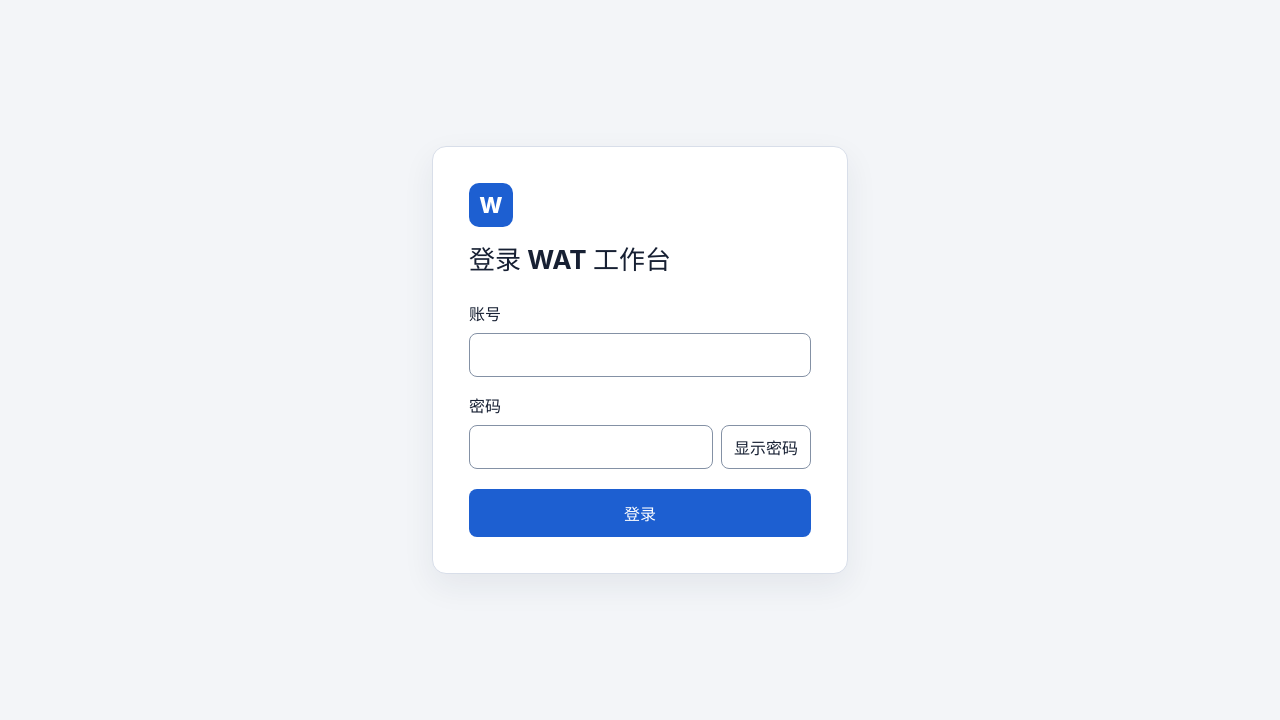
it: WAT pilot › shows G0 login, opens the workbench after sign-in and clears it on sign-out
Type "operator" into the field labelled "账号". click: (640, 355)
box: [469,333,811,377]
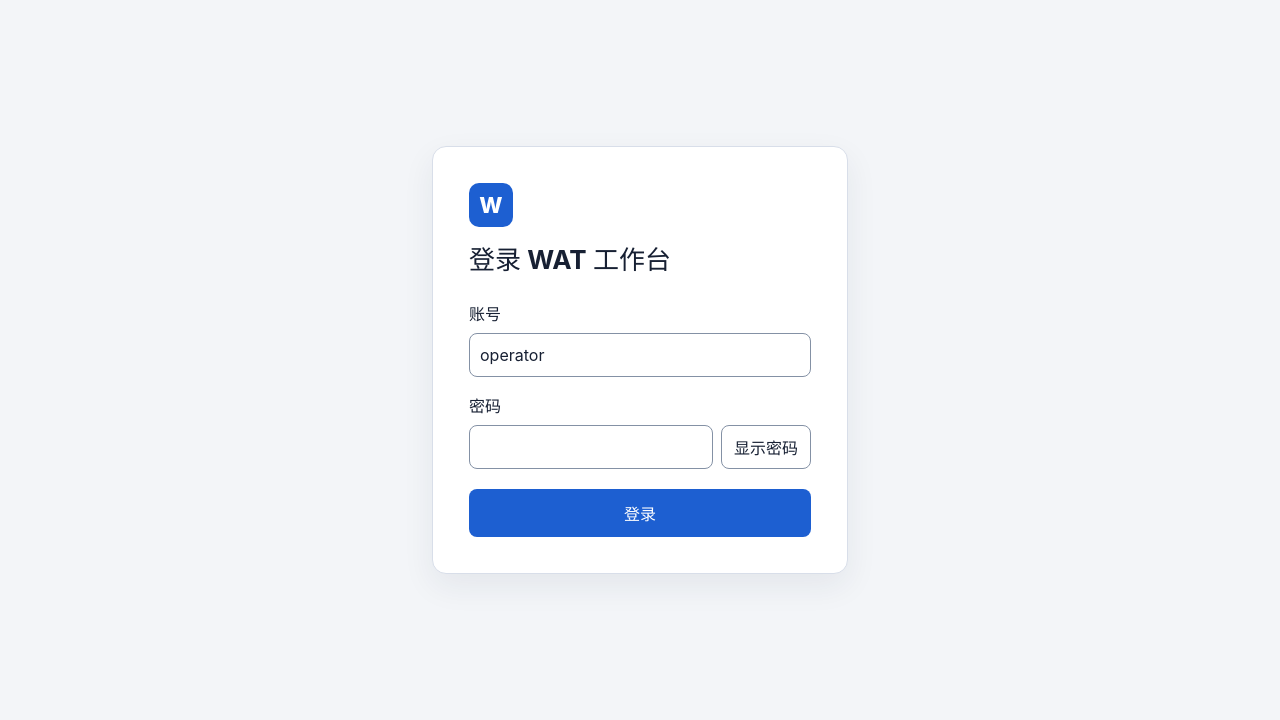
Type "wrong-test-password" into the password field labelled "密码". click: (591, 447)
box: [469,425,713,469]
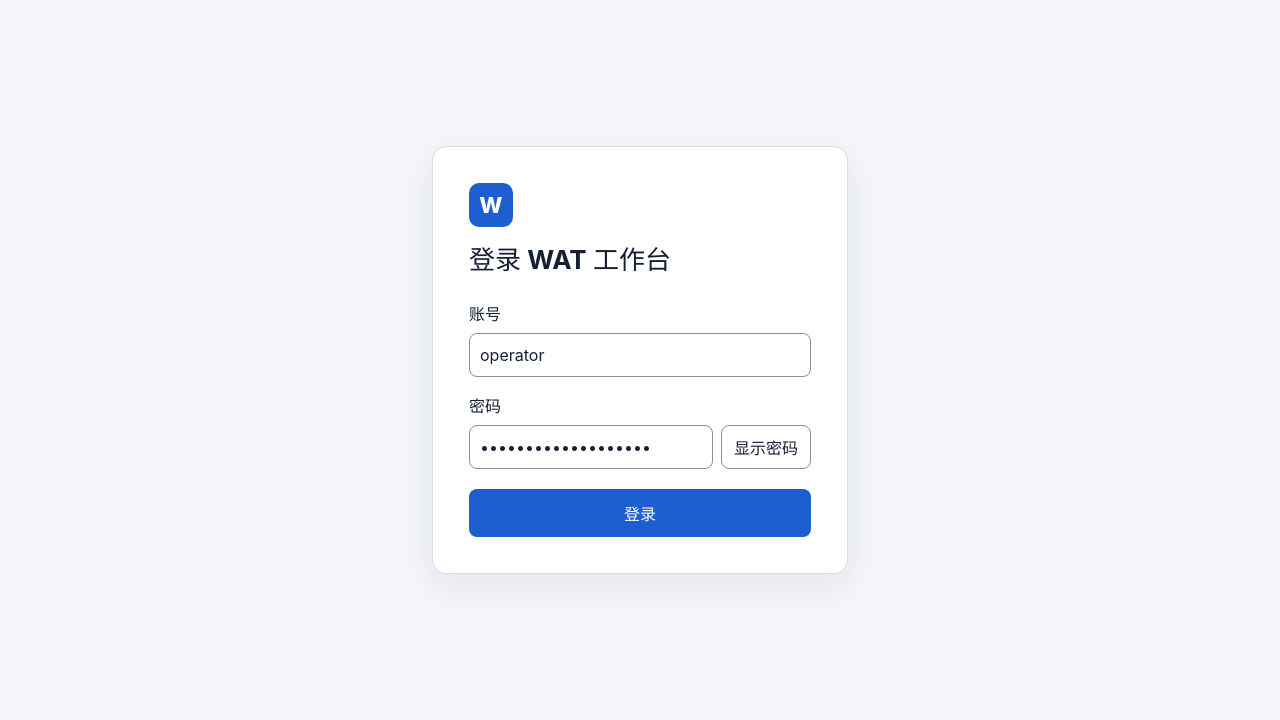
Click the button "登录". click: (640, 513)
box: [469,489,811,537]
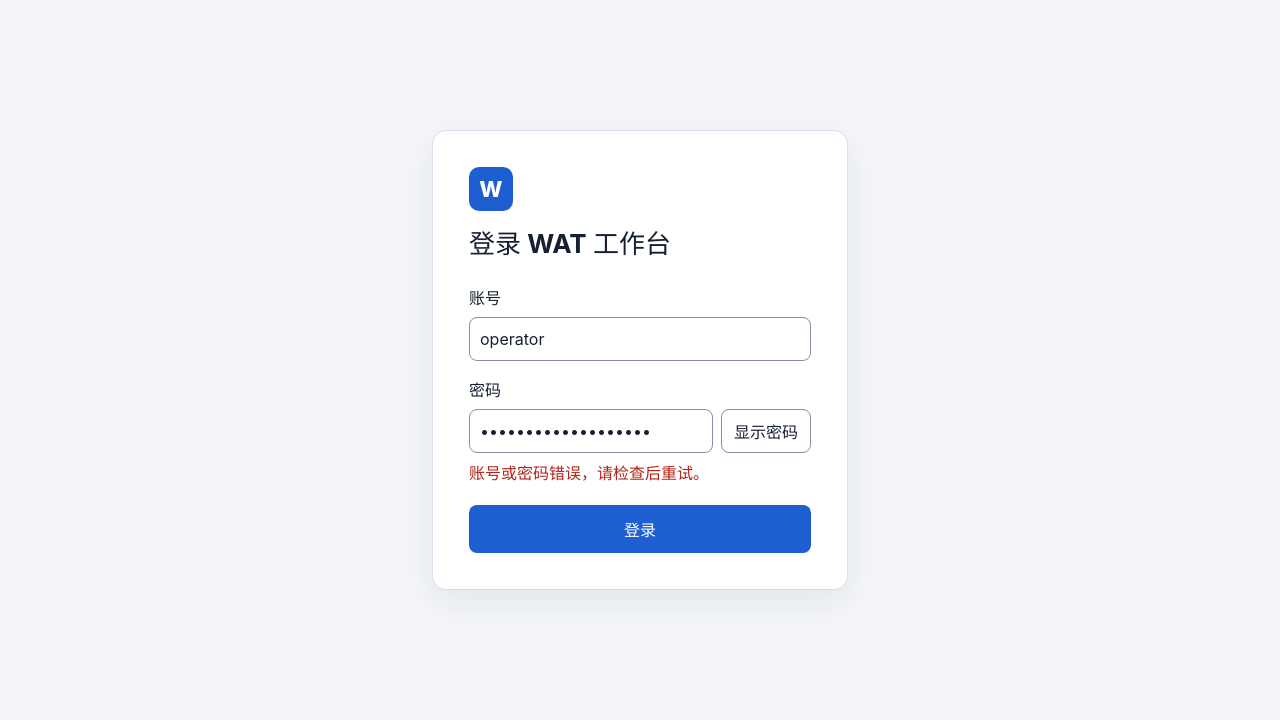
Check: the message shows "账号或密码错误", box [469,463,709,483]
Type "fixture-password" into the password field labelled "密码". click: (591, 431)
box: [469,409,713,453]
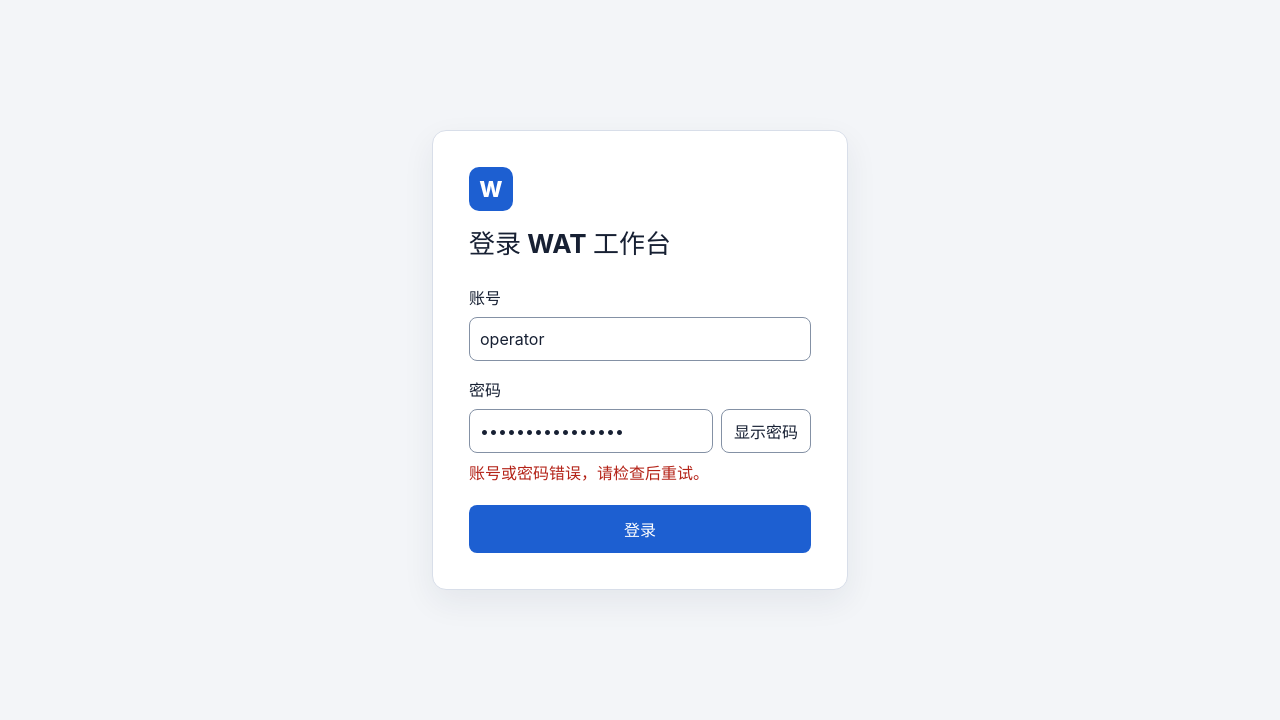
Click the button "登录". click: (640, 529)
box: [469,505,811,553]
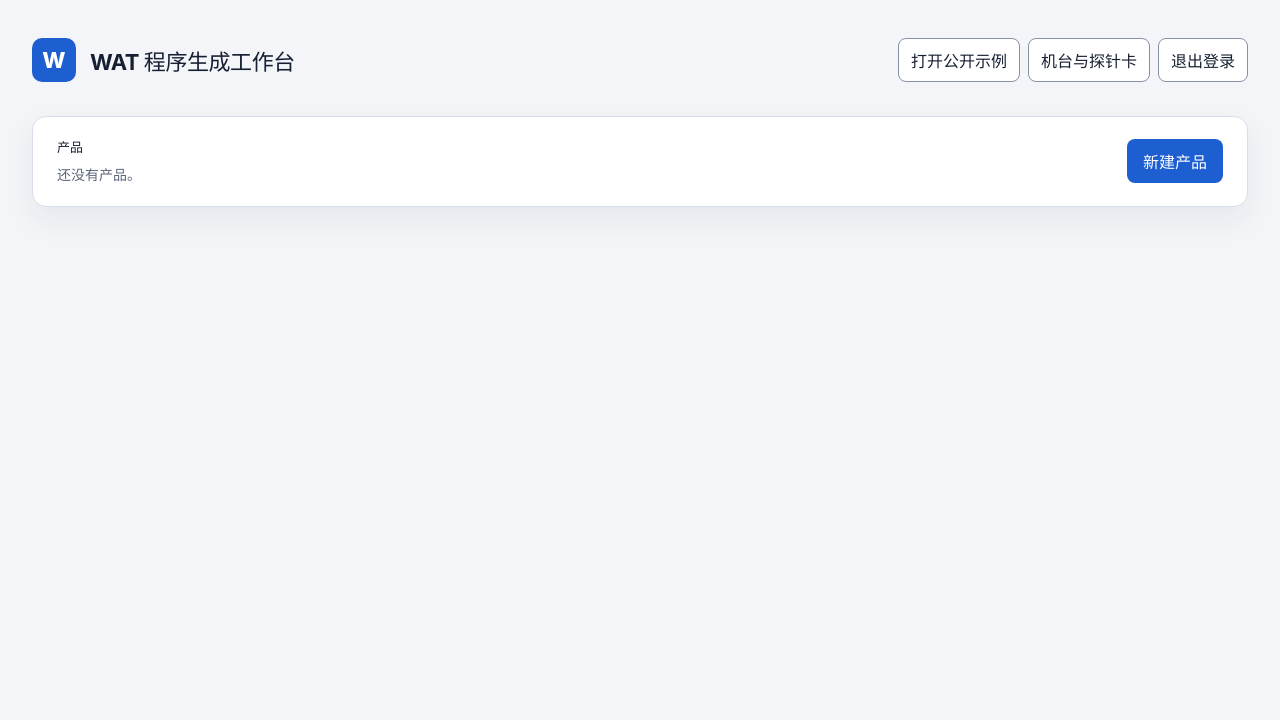
Check: the button "新建产品" is enabled, box [1127,139,1223,183]
Click the button "退出登录". click: (1203, 60)
box: [1158,38,1248,82]
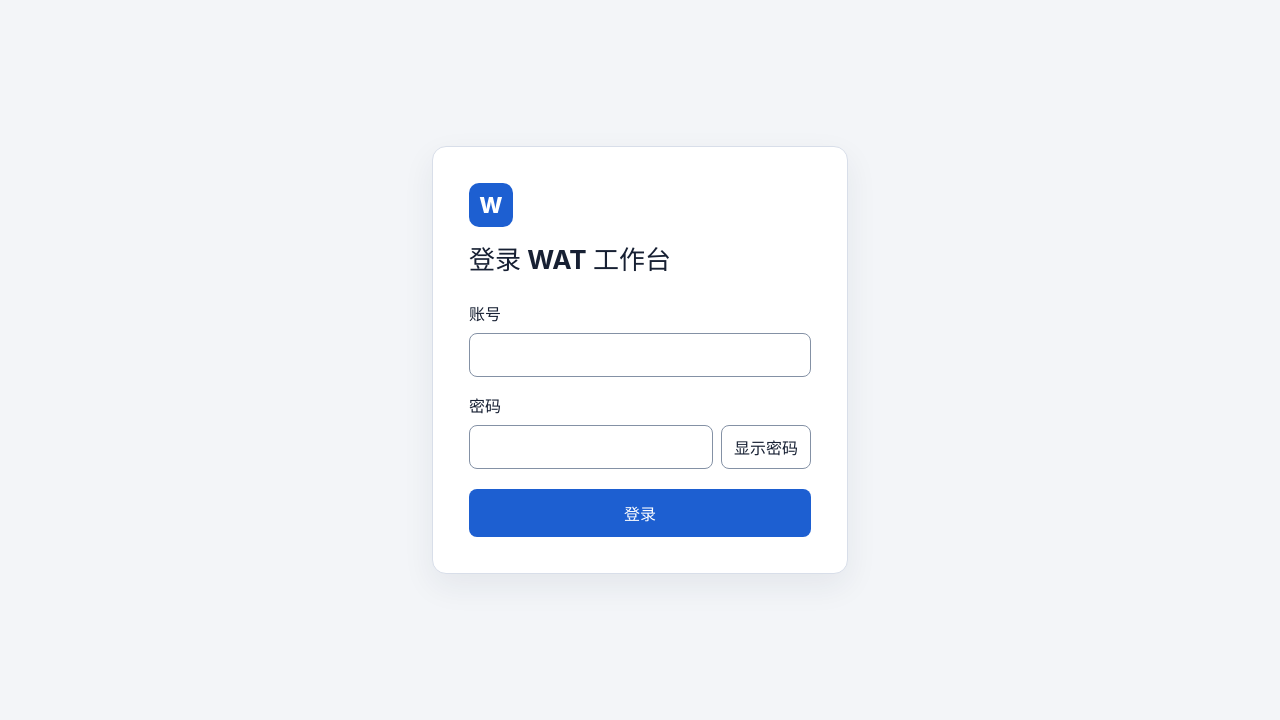
Check: the field labelled "账号" is shown, box [469,333,811,377]
